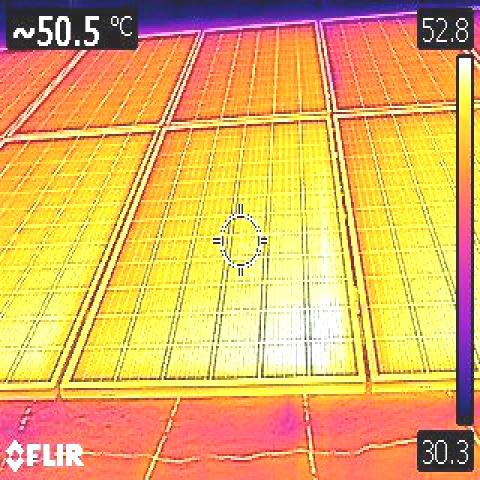fault: (303, 302, 338, 372)
